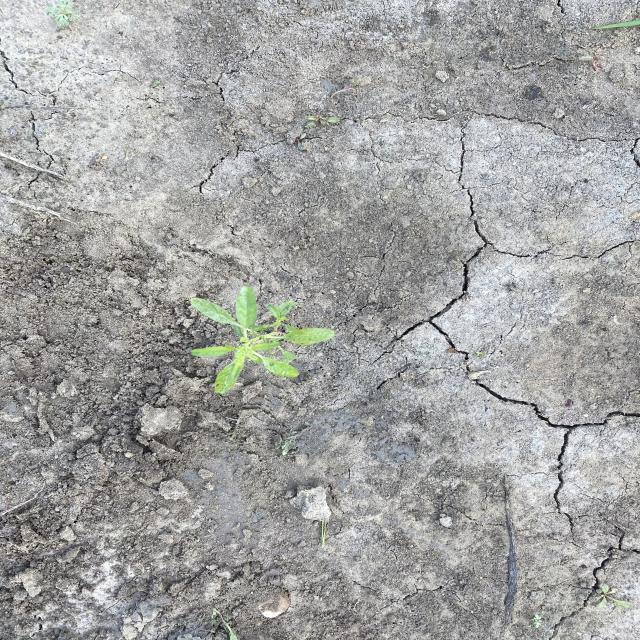Waterhemp: (187, 285, 337, 396)
